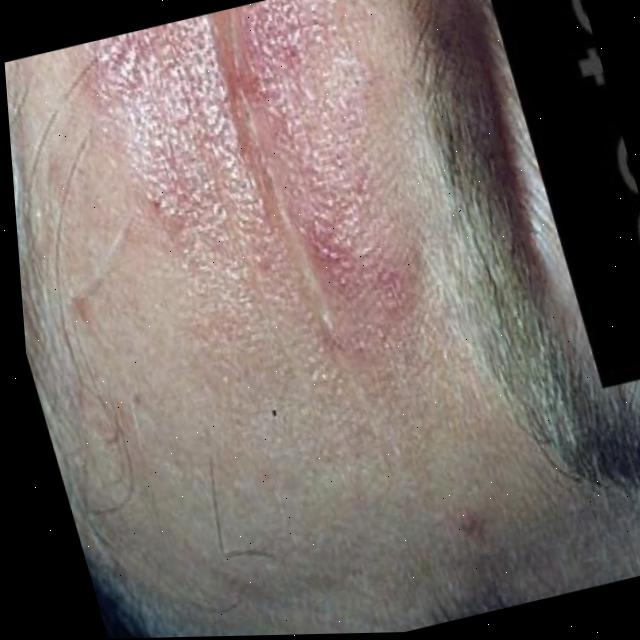Rosacea: (77, 0, 462, 407)
